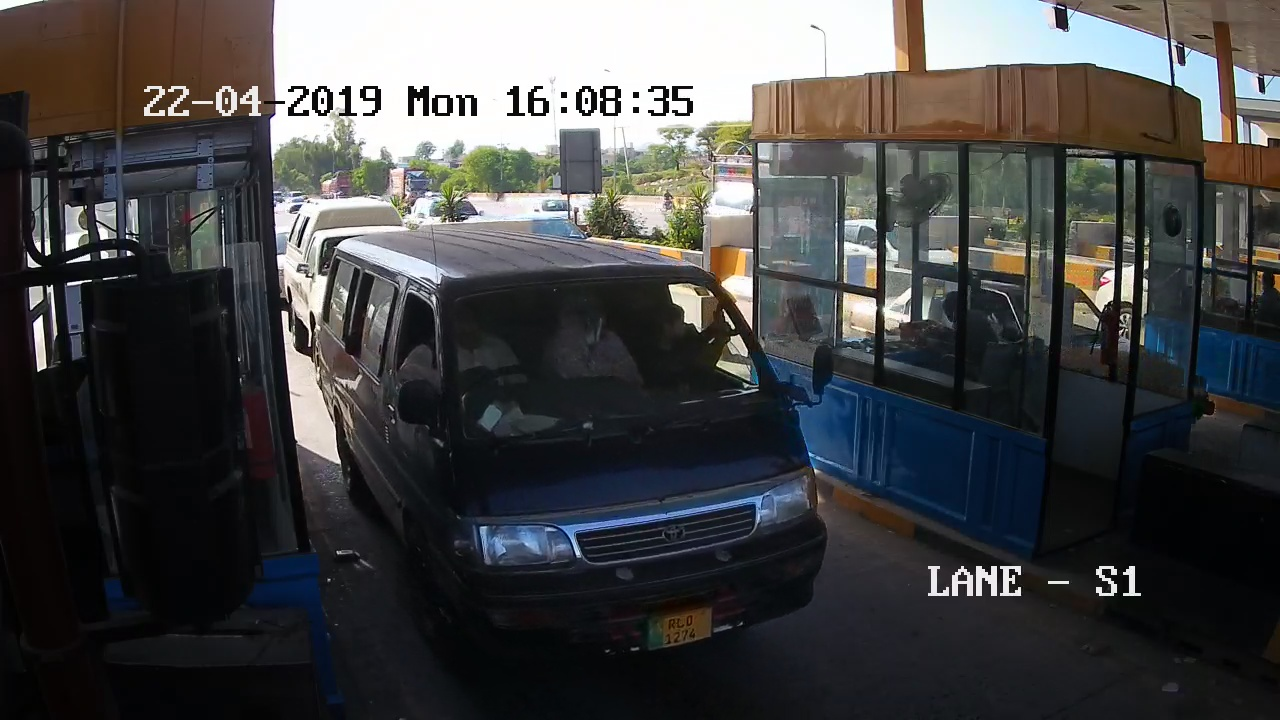Number Plate (Car): (646, 611, 715, 645)
